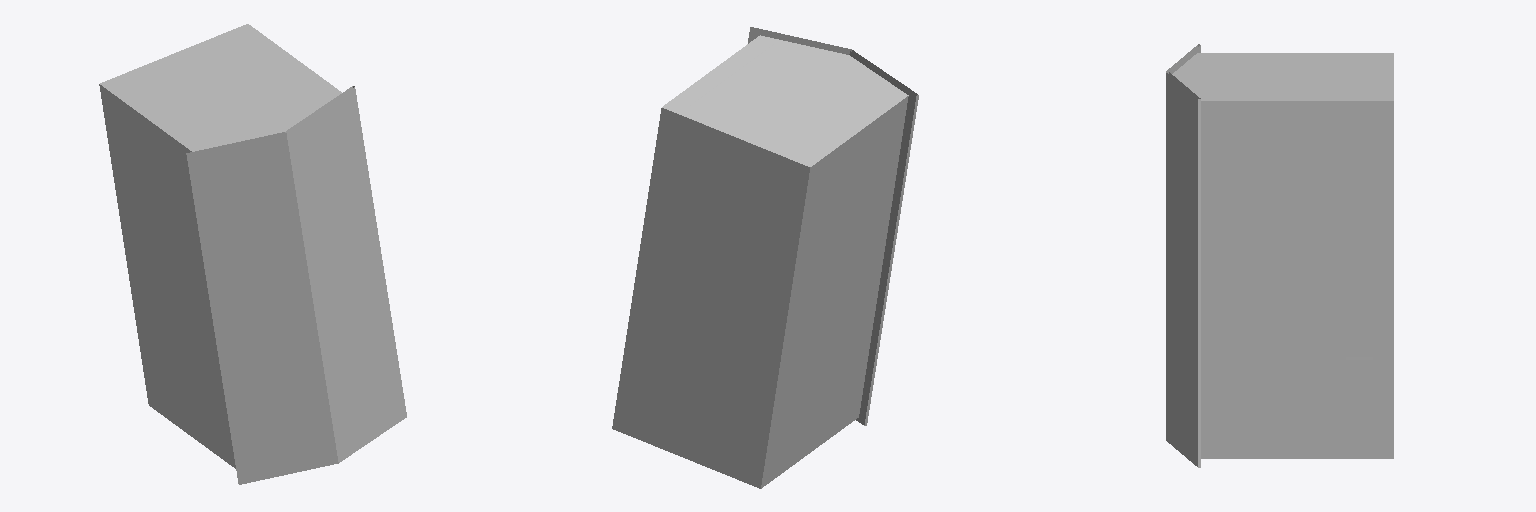
The model's file is oneContext-1.obj.
3 views of the same model, side by side, from view 1: azimuth 30°, elevation 25°; view 2: azimuth 150°, elevation 25°; view 3: azimuth 270°, elevation 25° (orthographic).
Size of the model in its own units: 59.43 by 95.26 by 53.38.